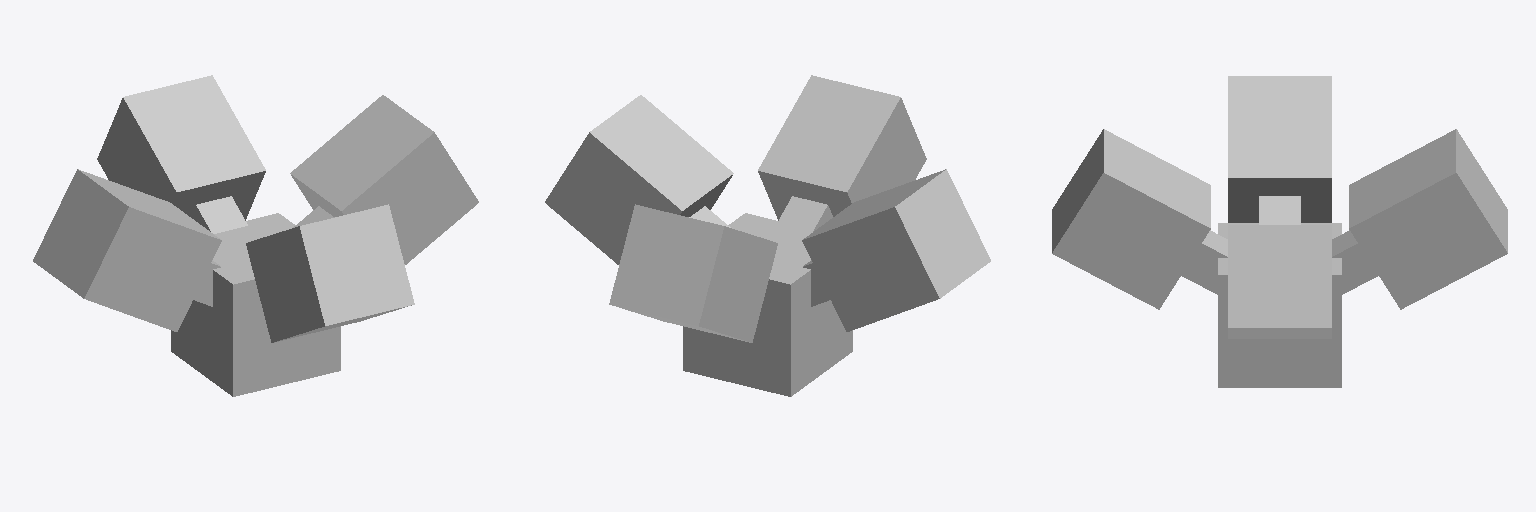
The model's file is sprinkler_normal_top.obj.
The picture shows the model from 3 angles: view 1: azimuth 30°, elevation 25°; view 2: azimuth 150°, elevation 25°; view 3: azimuth 270°, elevation 25°; orthographic projection.
Parts seen in each view (by area): view 1: cube; view 2: cube; view 3: cube.
Part boxes in pixels (bbox=[...]): cube: bbox=[33, 75, 478, 396]; cube: bbox=[545, 75, 990, 396]; cube: bbox=[1052, 76, 1507, 387].
Size of the model in its own units: 1.38 by 0.702 by 1.38.